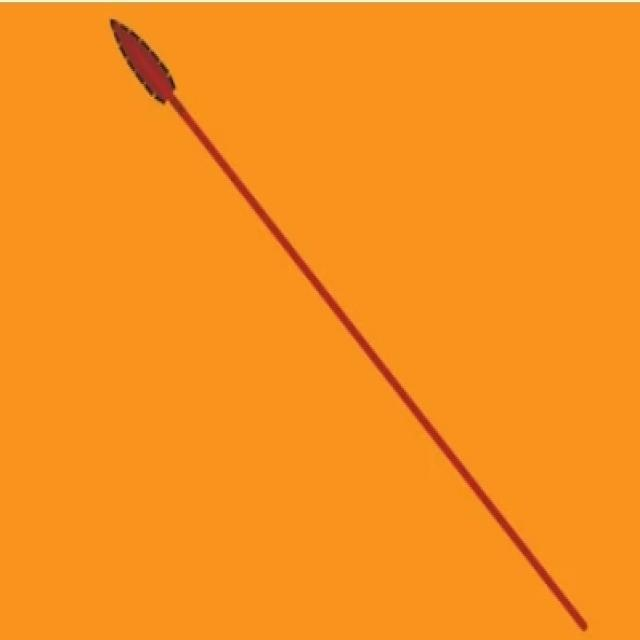spear: (82, 2, 601, 640)
